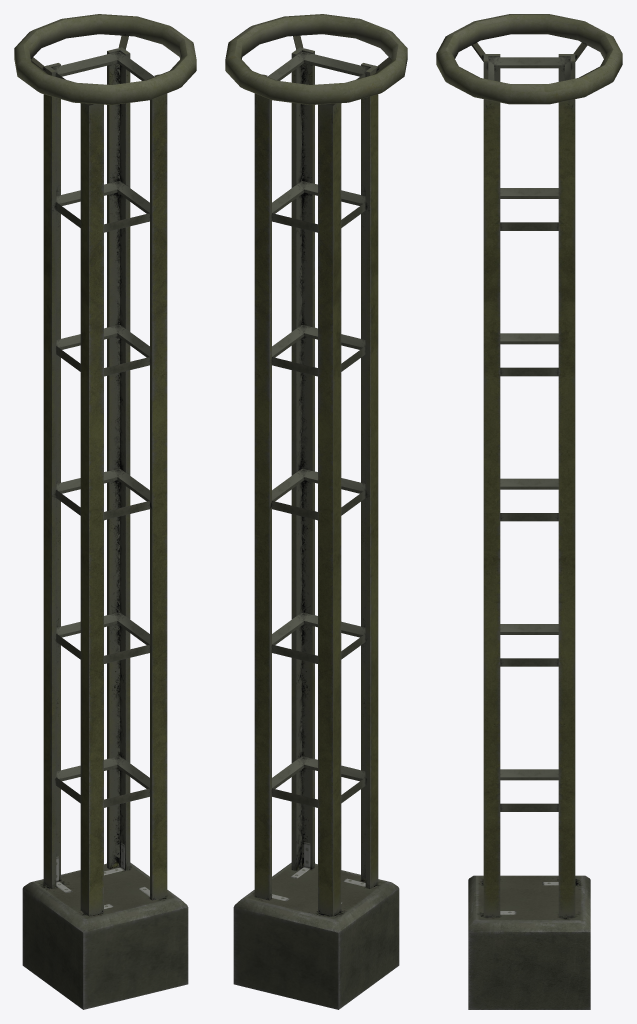
File: pipe.glb
3 views of the same model, side by side, from view 1: azimuth 30°, elevation 25°; view 2: azimuth 150°, elevation 25°; view 3: azimuth 270°, elevation 25° (orthographic).
Visible parts, largest first — view 1: TallBars, Main, AttachmentsBar, SphereTOP, MetalAttach; view 2: TallBars, Main, AttachmentsBar, SphereTOP, MetalAttach; view 3: TallBars, Main, SphereTOP, AttachmentsBar.
Part boxes in pixels (x1=…): TallBars: x1=31, y1=35, x2=167, y2=915; Main: x1=22, y1=862, x2=188, y2=1009; AttachmentsBar: x1=52, y1=51, x2=154, y2=807; SphereTOP: x1=14, y1=14, x2=196, y2=104; MetalAttach: x1=56, y1=842, x2=149, y2=908; TallBars: x1=254, y1=35, x2=390, y2=915; Main: x1=233, y1=862, x2=399, y2=1009; AttachmentsBar: x1=267, y1=51, x2=369, y2=807; SphereTOP: x1=225, y1=14, x2=407, y2=104; MetalAttach: x1=272, y1=842, x2=365, y2=903; TallBars: x1=471, y1=42, x2=587, y2=917; Main: x1=468, y1=875, x2=590, y2=1009; SphereTOP: x1=436, y1=14, x2=622, y2=104; AttachmentsBar: x1=488, y1=57, x2=570, y2=811.
Bounding box in the file's own units: 0.3523 × 2 × 0.3614.
Materials: 1 (1 with a texture image).
